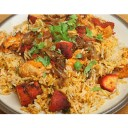briyani: (4, 16, 123, 109)
